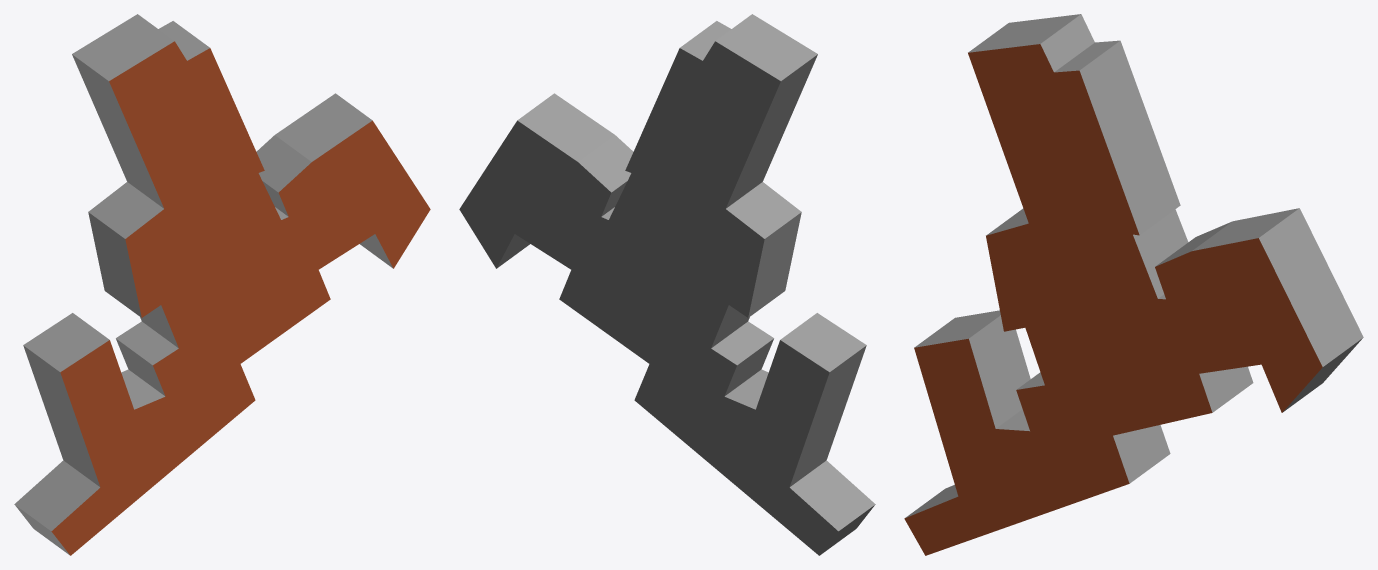
Rendered from construction_1232_assumed_A_Casa_h6m.obj.
The picture shows the model from 3 angles, left to right: view 1: azimuth 30°, elevation 25°; view 2: azimuth 150°, elevation 25°; view 3: azimuth 330°, elevation 25°; orthographic projection. The views are drawn at different scales.
Parts seen in each view (by area): view 1: construction_1232_assumed_A_Casa; view 2: construction_1232_assumed_A_Casa; view 3: construction_1232_assumed_A_Casa.
Boxes of the visible parts, x1,y1,x2,y2 form: construction_1232_assumed_A_Casa: (14,14,430,555); construction_1232_assumed_A_Casa: (459,14,875,555); construction_1232_assumed_A_Casa: (904,14,1363,555).
Bounding box in the file's own units: 35.39 × 43.64 × 6.
